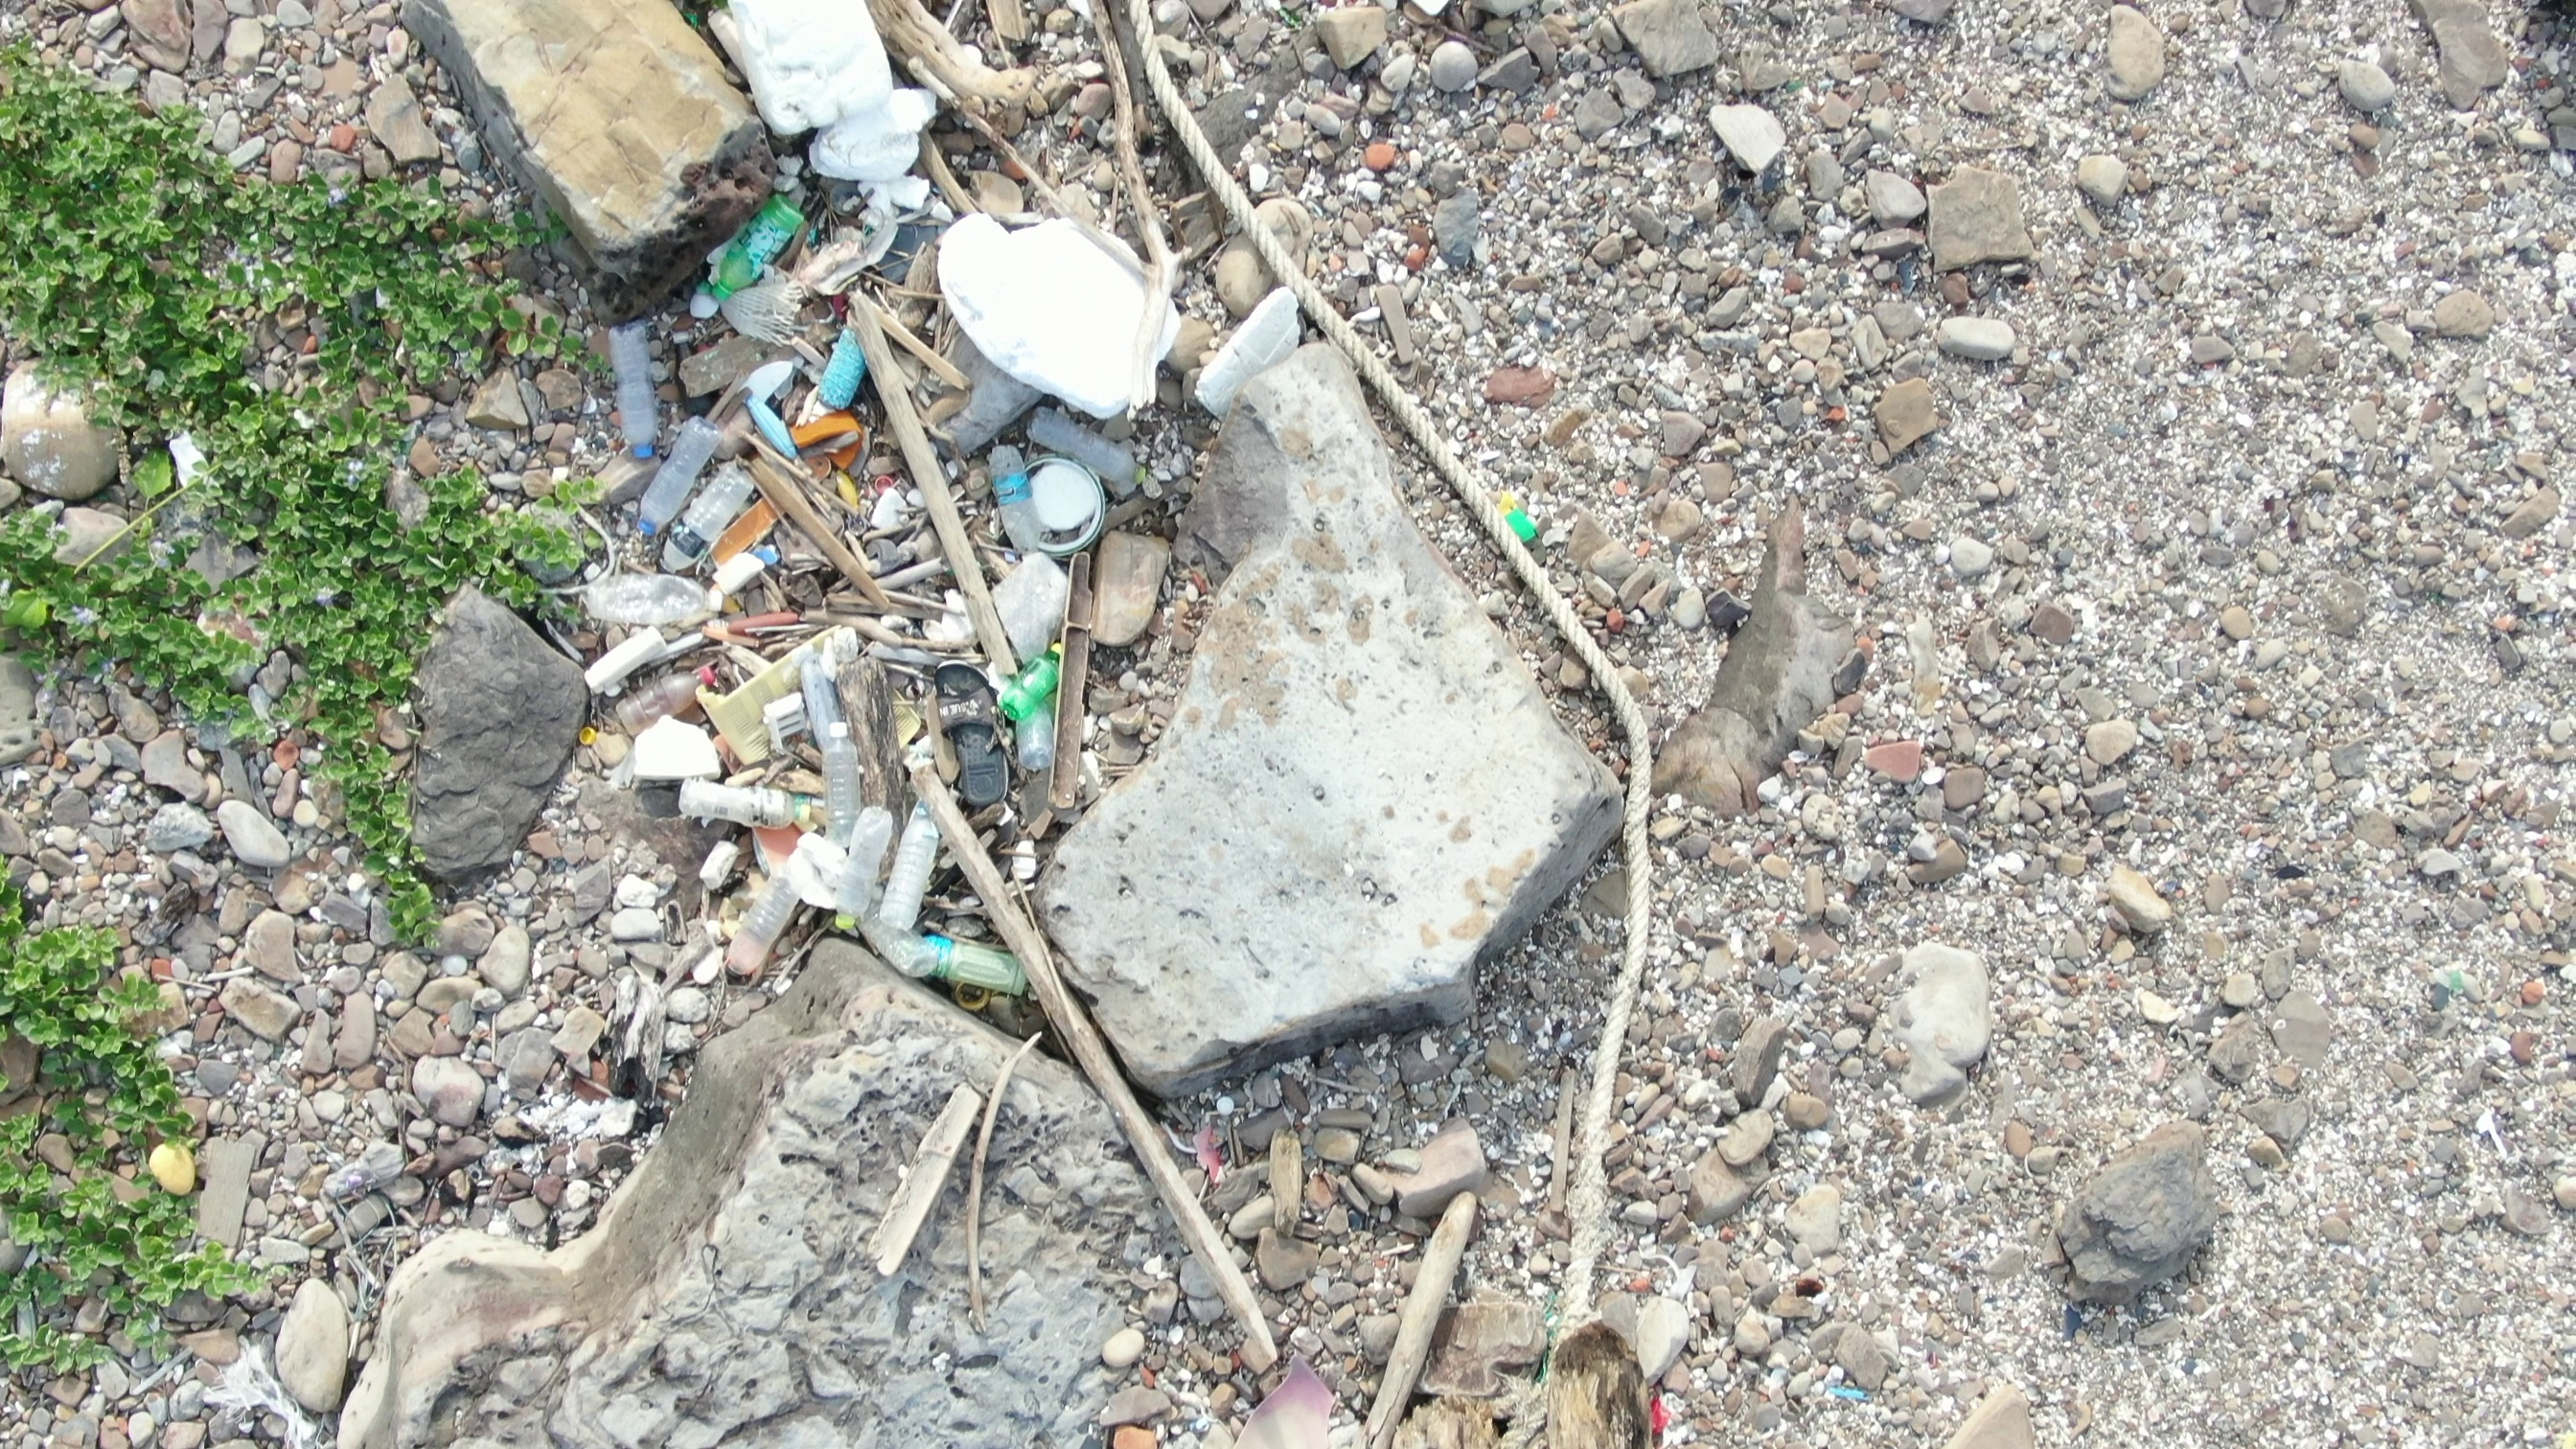bottle: (632, 407, 734, 543), (587, 564, 743, 648), (594, 295, 669, 467), (711, 186, 805, 313), (725, 849, 819, 971), (879, 807, 957, 945), (980, 418, 1047, 564), (906, 934, 1039, 1003), (989, 635, 1083, 731), (674, 770, 801, 830), (823, 708, 865, 872)
garbage: (600, 2, 1242, 1031), (1226, 179, 1672, 717), (1532, 708, 1690, 1449), (1194, 1109, 1233, 1205)
